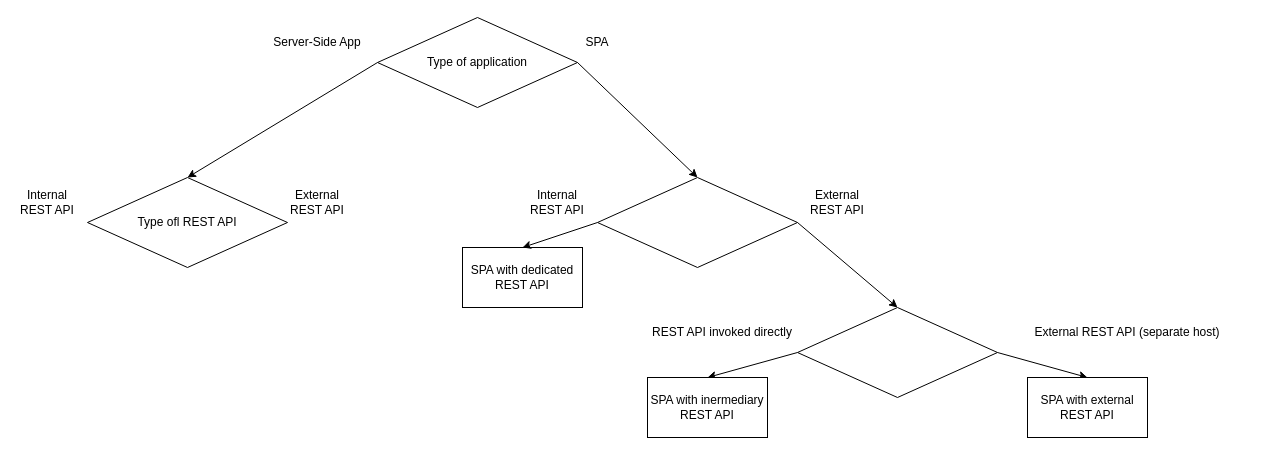
Image size: 1274x455. Some labels were removed from this diagram. The shapes that lost their labels are listed below. From the top down, each one's centre as x and y in pixels, then its label:
the point at 697,222: Type of REST API
the point at 897,352: REST API invocation
